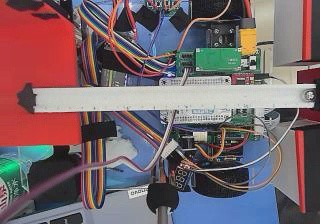ironball: (303, 89, 315, 100)
